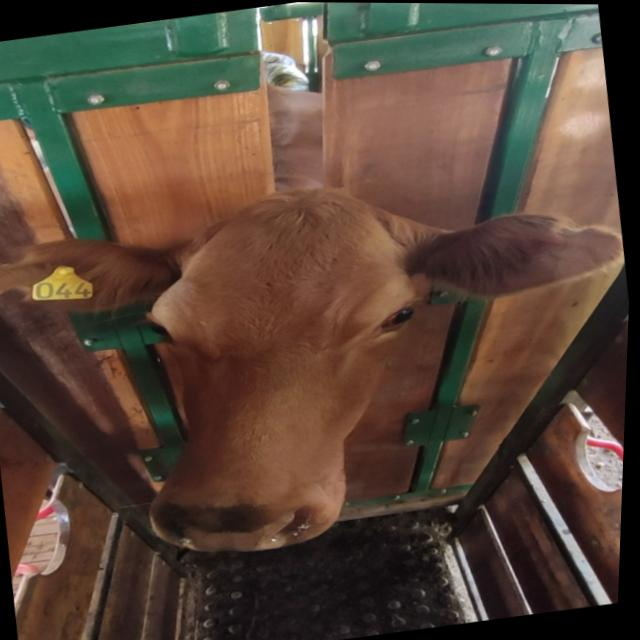cowFace: (109, 179, 454, 568)
